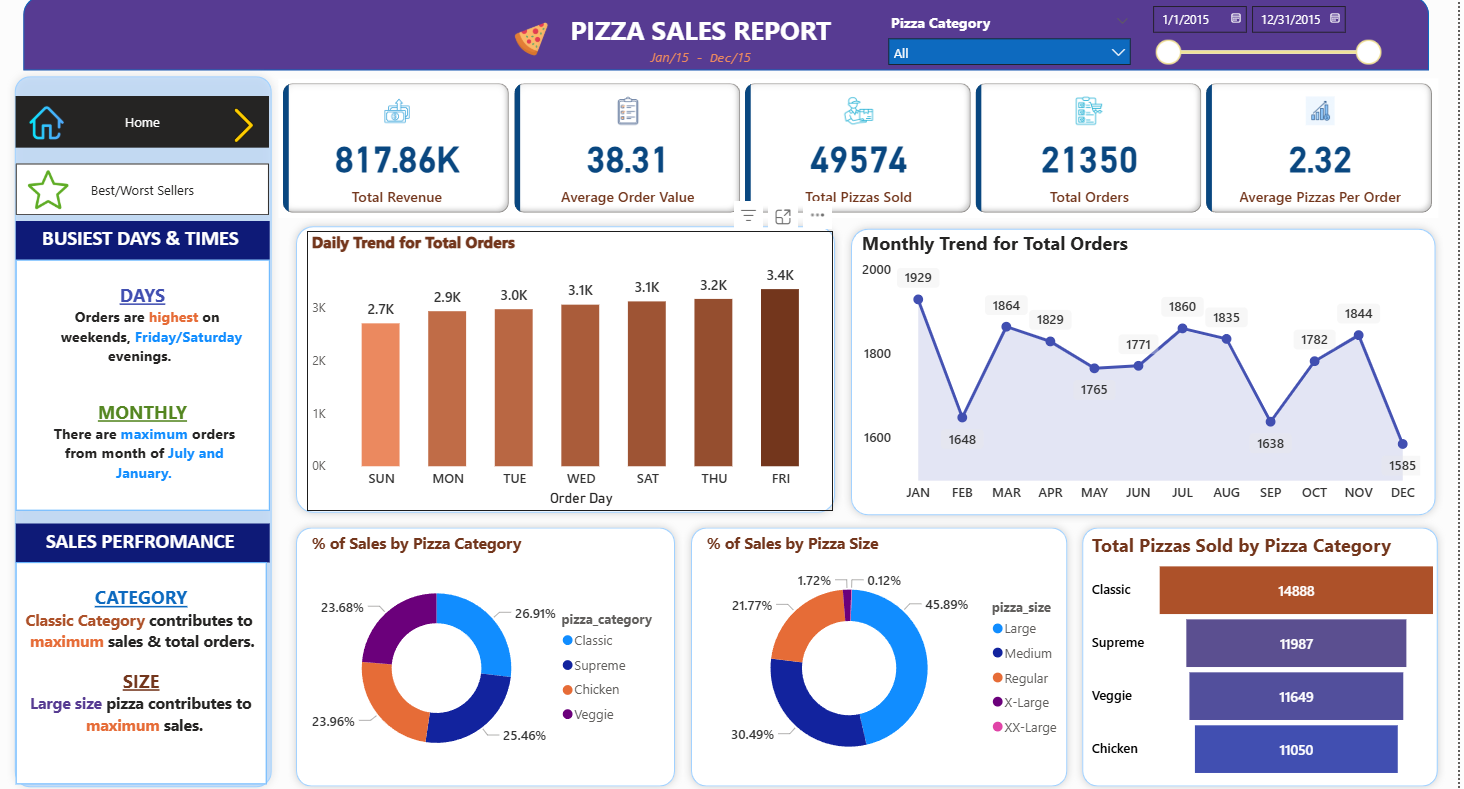

This screenshot's page, from the dashboard's own definition file:
{"tool":"powerbi","page":{"name":"Home","canvas":[1500,820],"ordinal":0},"visuals":[{"type":"cardVisual","fields":{"Data":["public pizza_sales.Total Revenue","public pizza_sales.Average Order Value","public pizza_sales.Total Pizzas Sold","public pizza_sales.Total Orders","public pizza_sales.Average Pizzas Per Order"]},"box":[289,85,1191.5,143.1],"z":0},{"type":"shape","box":[26.9,0,1443.6,76.5],"z":1000},{"type":"textbox","box":[578,11.3,290.4,55.3],"z":2000},{"type":"textbox","box":[661.6,48.2,123.3,36.8],"z":3000},{"type":"image","box":[519.9,21.3,58.1,45.3],"z":4000},{"type":"shape","box":[298.9,228.1,569.5,310.3],"z":5000},{"type":"columnChart","title":"Daily Trend for Total Orders","fields":{"Category":["public pizza_sales.Order Day"],"Y":["public pizza_sales.Total Orders"]},"box":[318.8,240.8,539.8,287.6],"z":6000},{"type":"shape","box":[868.5,230.9,616.3,310.3],"z":7000},{"type":"areaChart","title":"Monthly Trend for Total Orders ","fields":{"Category":["public pizza_sales.Order Month"],"Y":["public pizza_sales.Total Orders"]},"box":[882.6,240.8,583.7,287.6],"z":8000},{"type":"shape","box":[298.9,538.4,405.2,281.9],"z":9000},{"type":"shape","box":[704.1,538.4,402.4,281.9],"z":10000},{"type":"shape","box":[1106.5,538.4,381.1,281.9],"z":11000},{"type":"shape","box":[9.6,74,279.8,746.1],"z":12000},{"type":"textbox","box":[19.8,230.9,260.7,39.7],"z":13000},{"type":"donutChart","title":"% of Sales  by Pizza Category","fields":{"Category":["public pizza_sales.pizza_category"],"Y":["public pizza_sales.Total Revenue"]},"box":[318.8,551.1,375.4,257.8],"z":14000},{"type":"donutChart","title":"% of Sales  by Pizza Size","fields":{"Y":["public pizza_sales.Total Revenue"],"Category":["public pizza_sales.pizza_size"]},"box":[724,551.1,382.5,257.8],"z":15000},{"type":"funnel","title":"Total Pizzas Sold by Pizza Category","fields":{"Category":["public pizza_sales.pizza_category"],"Y":["public pizza_sales.Total Pizzas Sold"]},"box":[1119.2,551.1,365.5,257.8],"z":16000},{"type":"textbox","box":[19.8,270.6,260.7,257.8],"z":17000},{"type":"textbox","box":[19.8,541.2,260.7,39.7],"z":18000},{"type":"textbox","box":[19.8,580.9,257.8,228.1],"z":19000},{"type":"slicer","fields":{"Values":["public pizza_sales.pizza_category"]},"box":[905.3,11.3,269.2,62.3],"z":20000},{"type":"slicer","fields":{"Values":["public pizza_sales.order_date"]},"box":[1174.5,0,255,76.5],"z":21000},{"type":"pageNavigator","box":[19.3,102.9,260.5,53.1],"z":22000},{"type":"pageNavigator","box":[19.3,172.1,260.5,53.1],"z":23000},{"type":"image","box":[231.6,111,45,45],"z":24000},{"type":"image","box":[27.3,107.7,48.2,45],"z":25000},{"type":"image","box":[27.3,173.7,51.5,51.5],"z":26000}]}

Visuals, with their boxes in screenshot pixels (x1, y1, x2, y2), scaled from the page's 1500x820 canvas onto the 1464x789 screenshot:
cardVisual - public pizza_sales.Total Revenue x public pizza_sales.Average Order Value: 282,82,1445,219
shape: 26,0,1435,74
textbox: 564,11,848,64
textbox: 646,46,766,82
image: 507,20,564,64
shape: 292,219,848,518
"Daily Trend for Total Orders" columnChart: 311,232,838,508
shape: 848,222,1449,521
"Monthly Trend for Total Orders " areaChart: 861,232,1431,508
shape: 292,518,687,788
shape: 687,518,1080,788
shape: 1080,518,1452,788
shape: 9,71,282,788
textbox: 19,222,274,260
"% of Sales  by Pizza Category" donutChart: 311,530,678,778
"% of Sales  by Pizza Size" donutChart: 707,530,1080,778
"Total Pizzas Sold by Pizza Category" funnel: 1092,530,1449,778
textbox: 19,260,274,508
textbox: 19,521,274,559
textbox: 19,559,271,778
slicer - public pizza_sales.pizza_category: 884,11,1146,71
slicer - public pizza_sales.order_date: 1146,0,1395,74
pageNavigator: 19,99,273,150
pageNavigator: 19,166,273,217
image: 226,107,270,150
image: 27,104,74,147
image: 27,167,77,217
